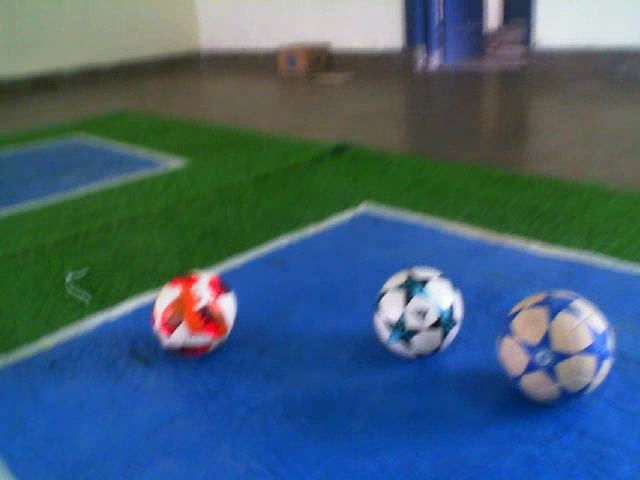ball: (490, 285, 620, 410), (369, 262, 467, 363), (148, 265, 241, 359)
